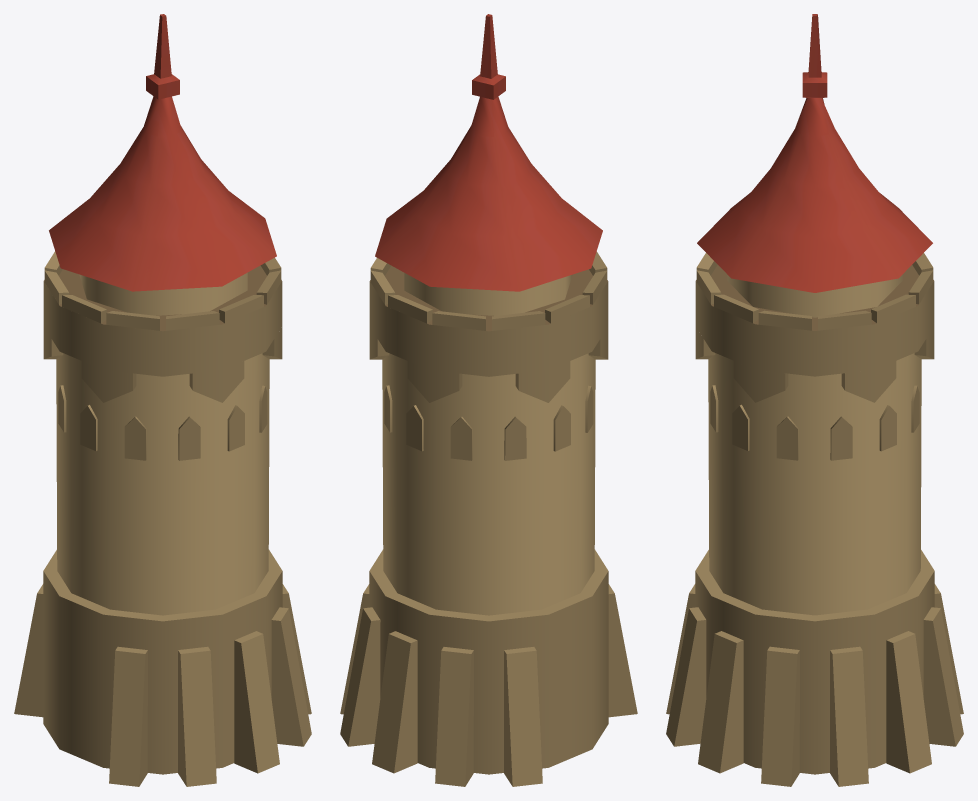
The model's file is wall_tower_main.glb.
The picture shows the model from 3 angles, left to right: view 1: azimuth 30°, elevation 25°; view 2: azimuth 150°, elevation 25°; view 3: azimuth 270°, elevation 25°; orthographic projection.
Visible parts, largest first — view 1: wall_tower_main; view 2: wall_tower_main; view 3: wall_tower_main.
Part boxes in pixels (box(x1,y1,x2,y2)): wall_tower_main: box(14, 14, 311, 786); wall_tower_main: box(340, 14, 637, 786); wall_tower_main: box(666, 14, 963, 786).
Bounding box in the file's own units: 6.15 × 17.91 × 6.82.
Materials: 1 (1 with a texture image).
